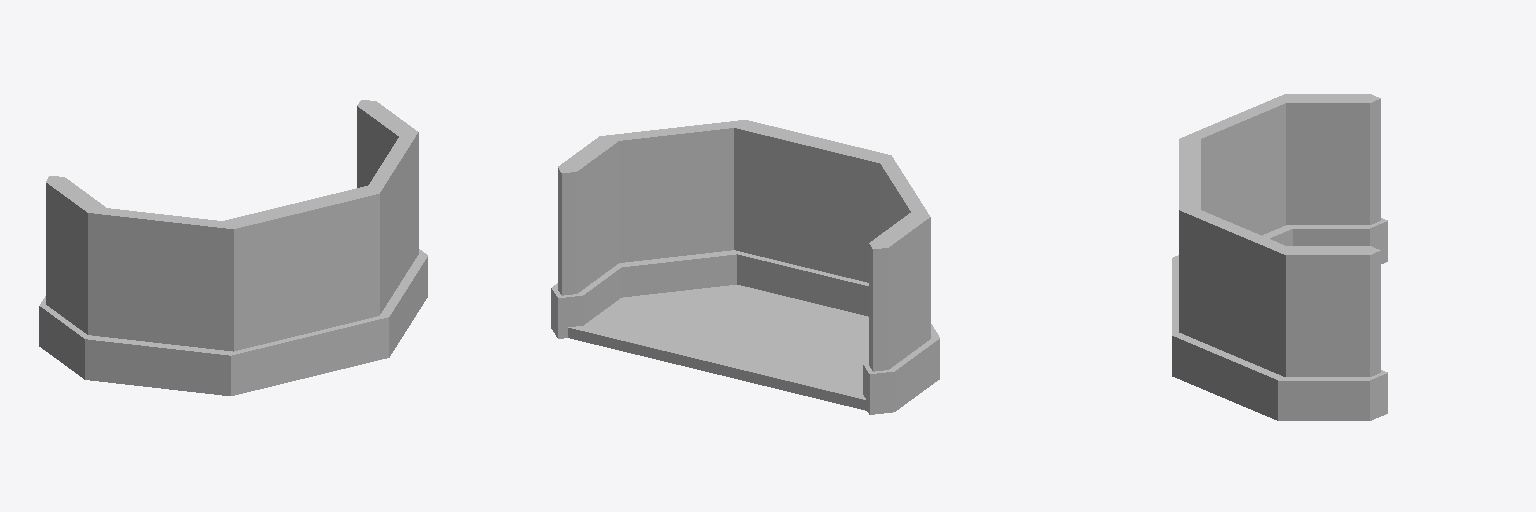
The model's file is hallway_end_04.obj.
3 renders of one model, left to right at view 1: azimuth 30°, elevation 25°; view 2: azimuth 150°, elevation 25°; view 3: azimuth 270°, elevation 25°, orthographic.
Visible parts, largest first — view 1: corner_02_89, corner_02_88; view 2: corner_02_88, corner_02_89, floor_10_87; view 3: corner_02_88, corner_02_89.
Part boxes in pixels (x1,y1,x2,y2): corner_02_89: (39,176,309,395); corner_02_88: (291,100,427,376); corner_02_88: (551,120,818,338); corner_02_89: (804,138,939,414); floor_10_87: (568,285,868,410); corner_02_88: (1172,170,1387,420); corner_02_89: (1172,94,1387,299).
Bounding box in the file's own units: 2.21 × 1 × 1.21.